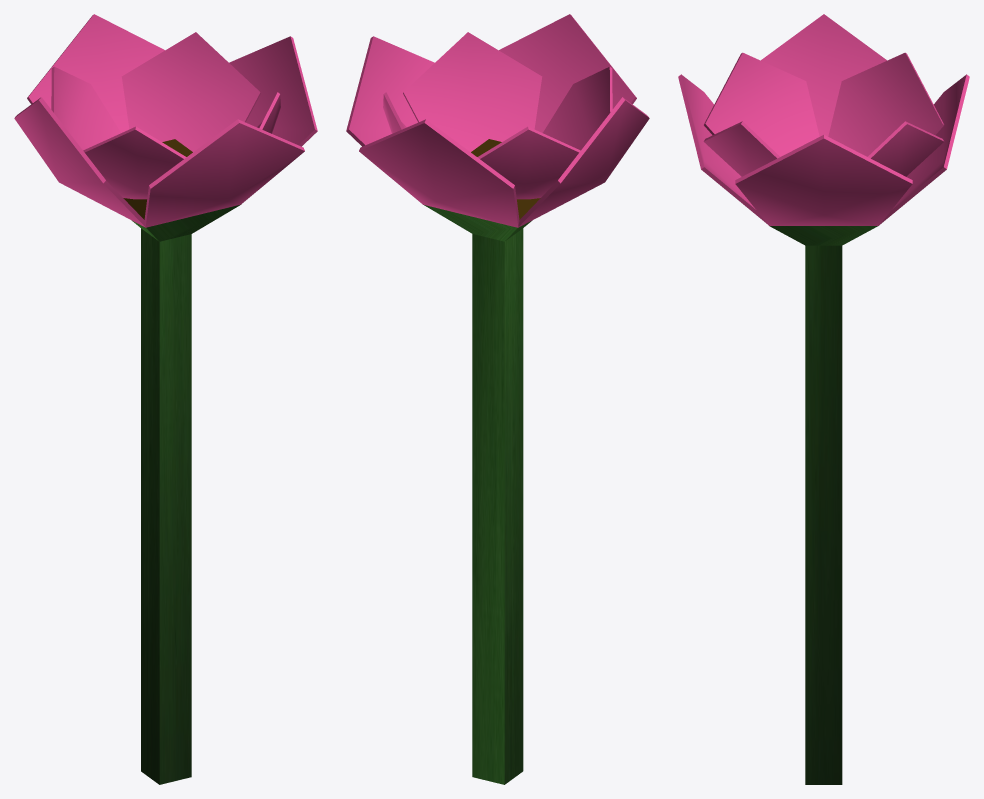
The model's file is Flower_v2.fbx.
The picture shows the model from 3 angles, left to right: view 1: azimuth 30°, elevation 25°; view 2: azimuth 150°, elevation 25°; view 3: azimuth 270°, elevation 25°; orthographic projection.
Visible parts, largest first — view 1: Flower_v2; view 2: Flower_v2; view 3: Flower_v2.
Part boxes in pixels (x1,y1,x2,y2): Flower_v2: (14, 14, 317, 784); Flower_v2: (346, 14, 649, 784); Flower_v2: (678, 14, 969, 784).
Size of the model in its own units: 0.2951 by 0.7842 by 0.2951.
